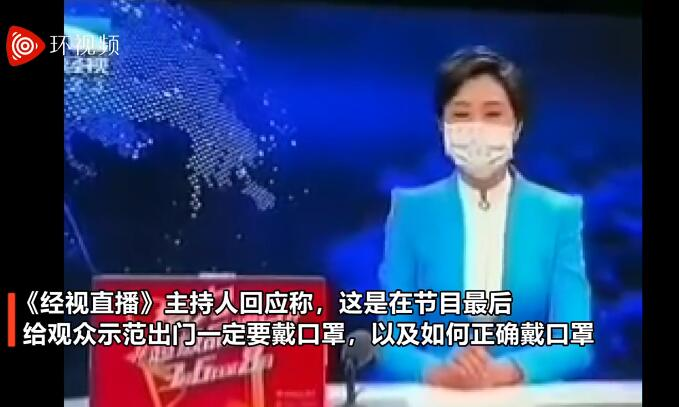mask: (434, 112, 543, 175)
